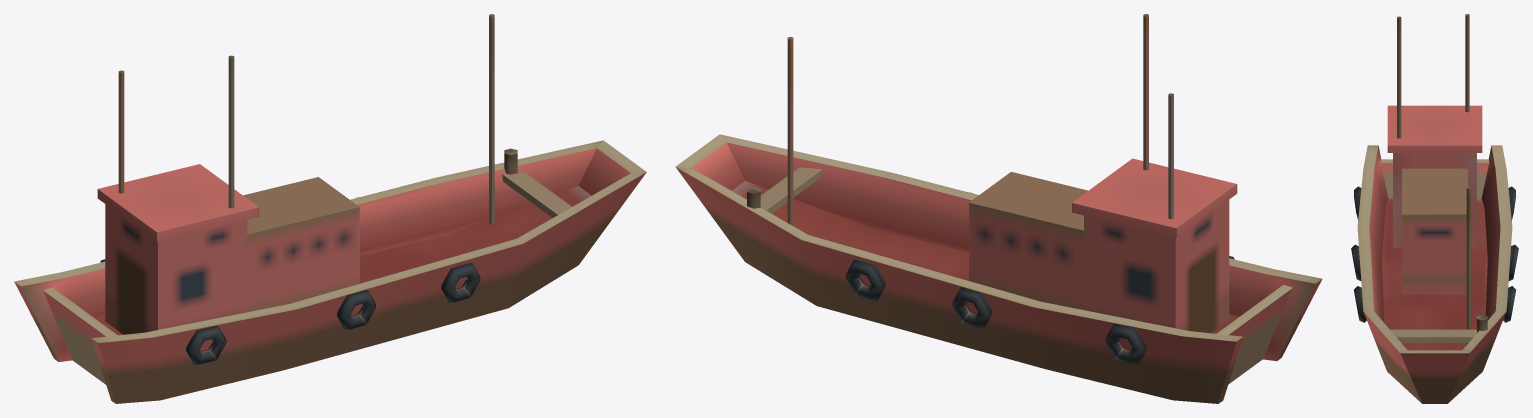
File: Coach_Building_Hooker_L2_02_Mod.fbx
3 views of the same model, side by side, from view 1: azimuth 30°, elevation 25°; view 2: azimuth 150°, elevation 25°; view 3: azimuth 270°, elevation 25° (orthographic). The views are drawn at different scales.
Parts seen in each view (by area): view 1: Coach_Building_Hooker_L2_02_Mod; view 2: Coach_Building_Hooker_L2_02_Mod; view 3: Coach_Building_Hooker_L2_02_Mod.
Part boxes in pixels (bbox=[...]): Coach_Building_Hooker_L2_02_Mod: bbox=[14, 14, 646, 403]; Coach_Building_Hooker_L2_02_Mod: bbox=[675, 14, 1322, 403]; Coach_Building_Hooker_L2_02_Mod: bbox=[1351, 14, 1518, 403].
Size of the model in its own units: 1119 by 592 by 358.
